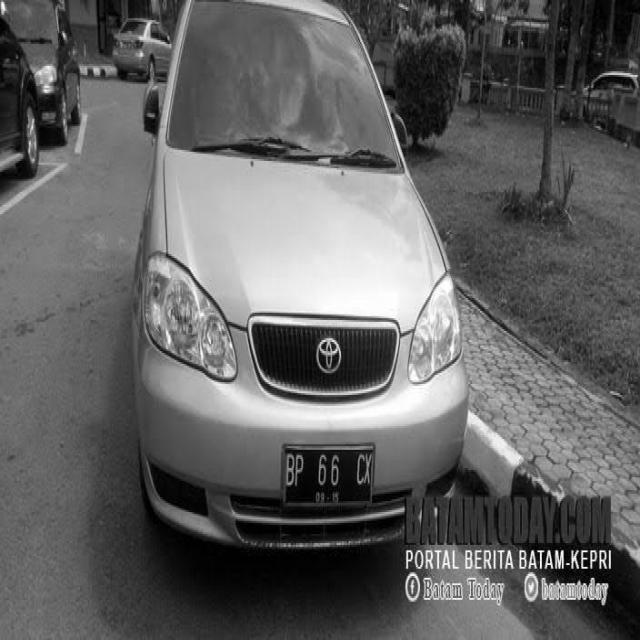6: (329, 454, 344, 492), (315, 452, 329, 492)
B: (284, 454, 294, 486)
C: (356, 452, 366, 487)
K: (364, 453, 372, 486)
P: (295, 454, 305, 487)
